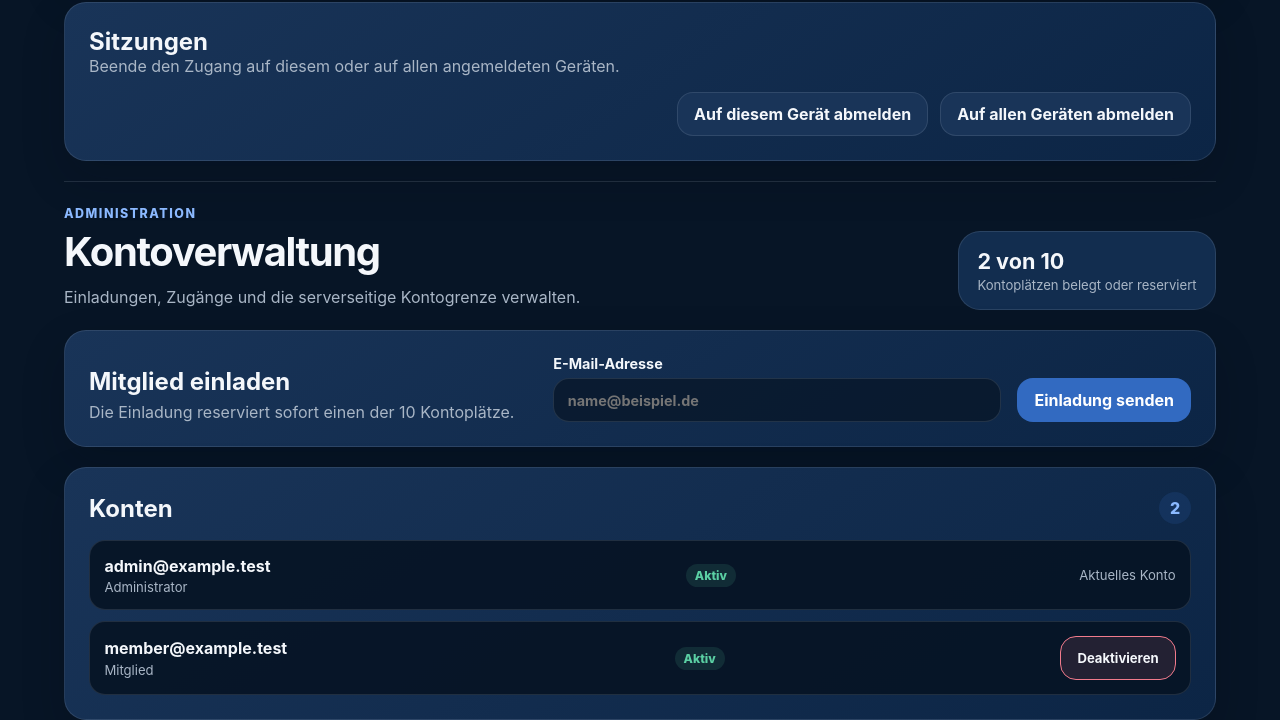
Test: SettingsPage › requires explicit confirmation before deactivation
(page scrolled)
Click the button with aria-label "Konto von member@example.test deaktivieren". click: (1118, 658)
box: x1=1060 y1=636 x2=1176 y2=680
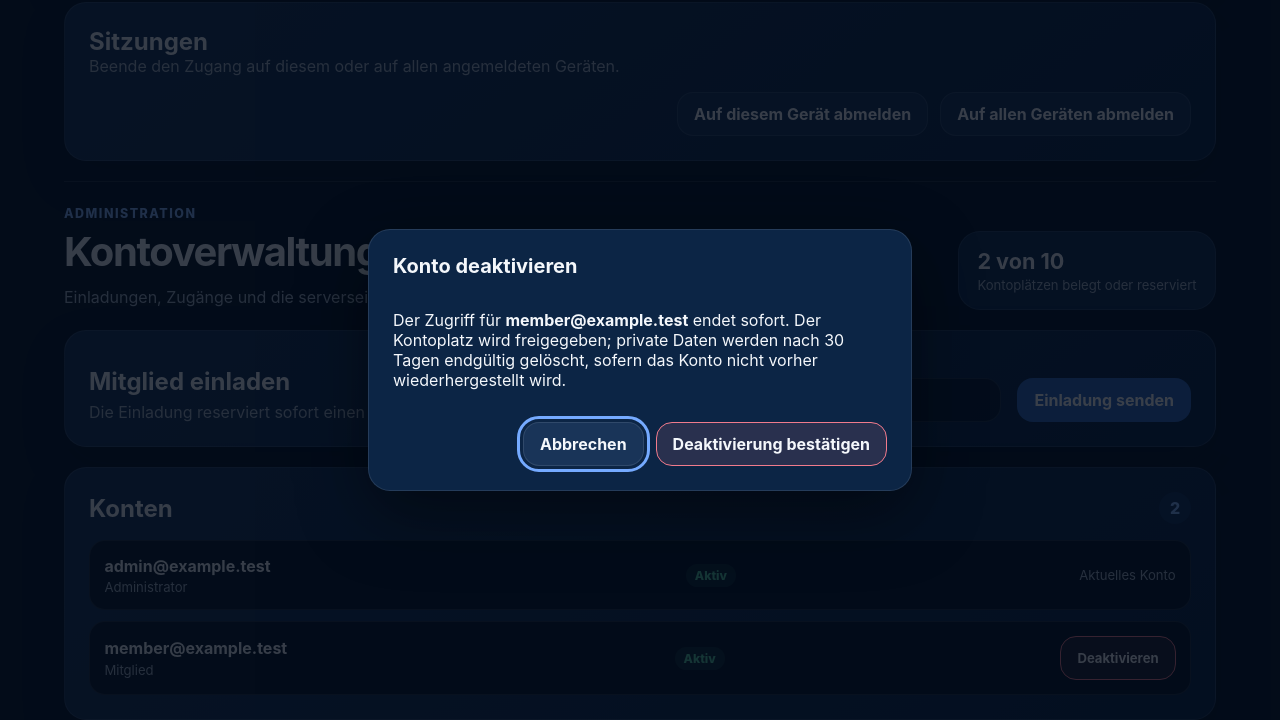
Press Escape
Check: the dialog "Konto deaktivieren" is shown, box x1=368 y1=229 x2=912 y2=491
Click the button "Abbrechen". click: (583, 444)
box: x1=523 y1=422 x2=644 y2=466
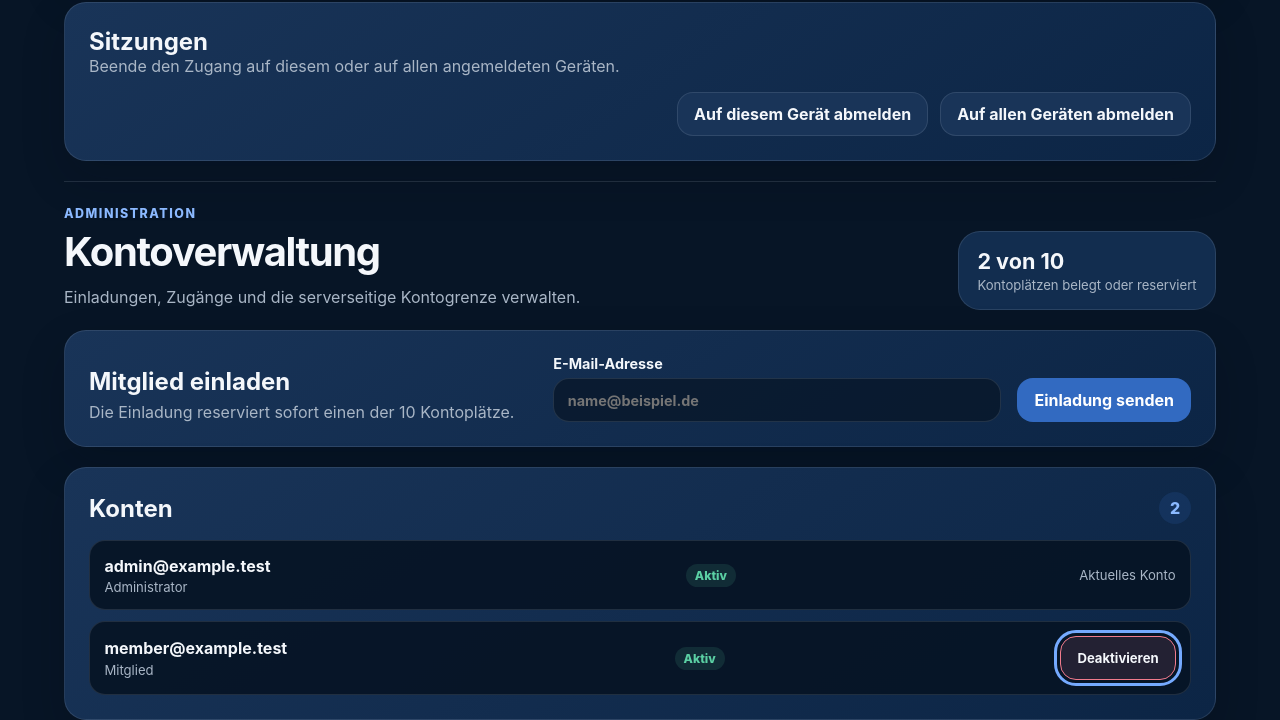
Click the button with aria-label "Konto von member@example.test deaktivieren". click: (1118, 658)
box: x1=1060 y1=636 x2=1176 y2=680
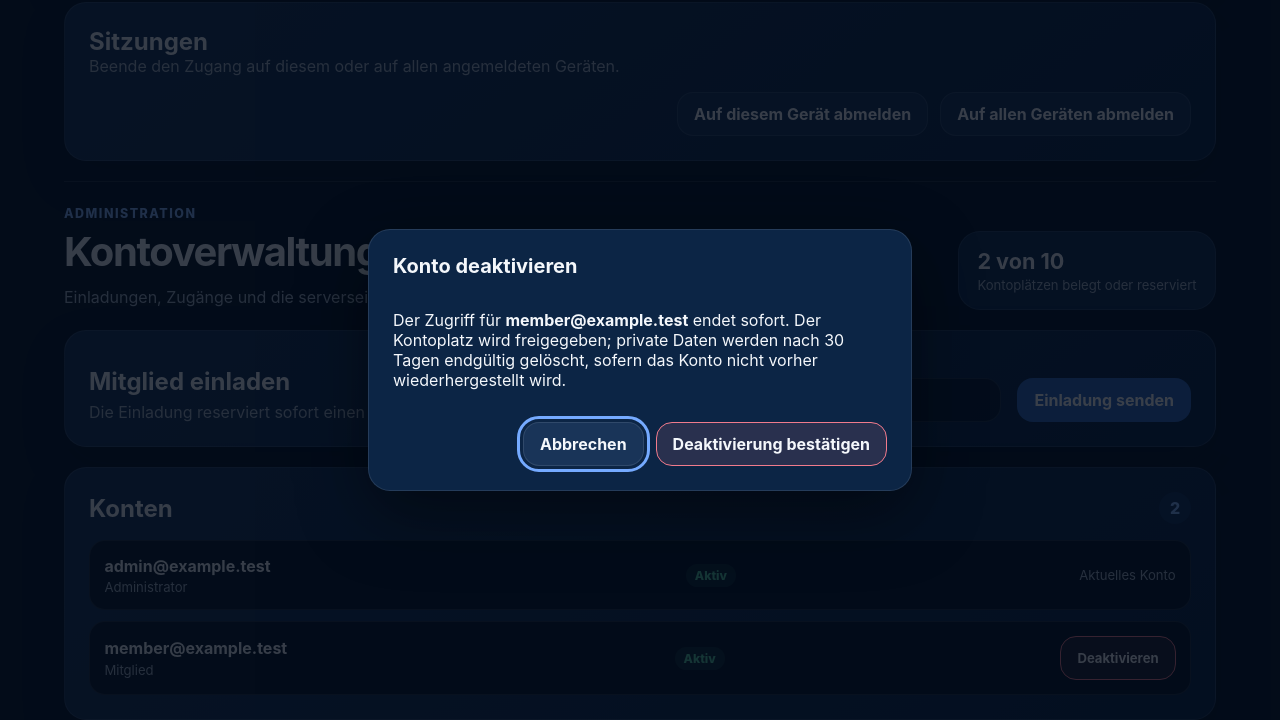
Click the button "Deaktivierung bestätigen". click: (771, 444)
box: x1=656 y1=422 x2=887 y2=466
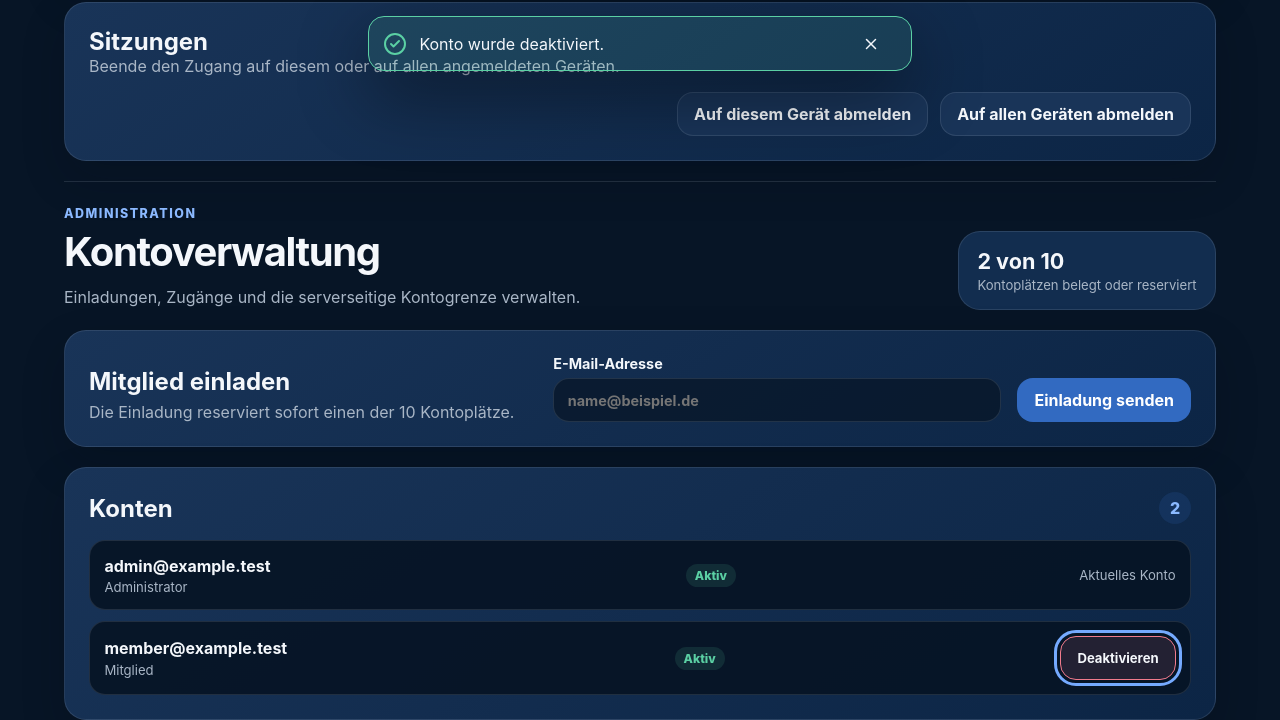
Check: the message named "Erfolg: Konto wurde deaktiviert." is shown, box x1=368 y1=16 x2=912 y2=71
